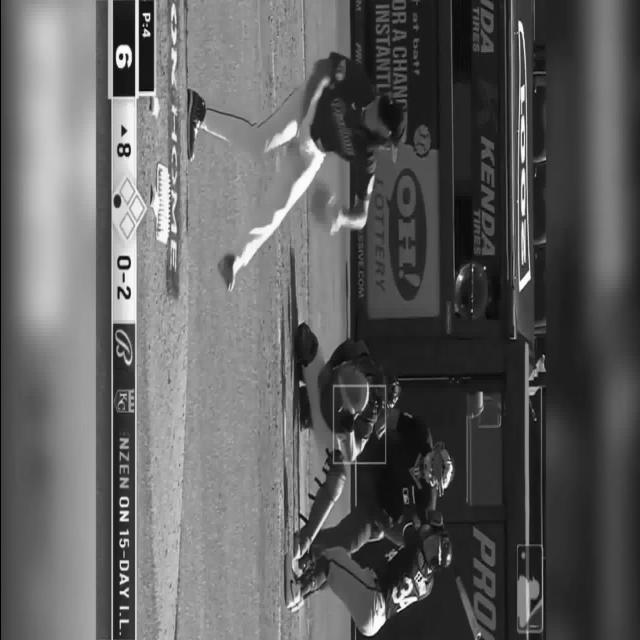baseball: (149, 96, 159, 117)
baseball_glove: (338, 363, 366, 415), (310, 186, 340, 234)
bat: (454, 574, 482, 639)
shoe: (187, 88, 206, 162), (284, 550, 304, 610), (294, 322, 318, 366), (217, 252, 235, 292), (298, 385, 312, 431), (292, 528, 310, 558), (298, 549, 314, 571)
